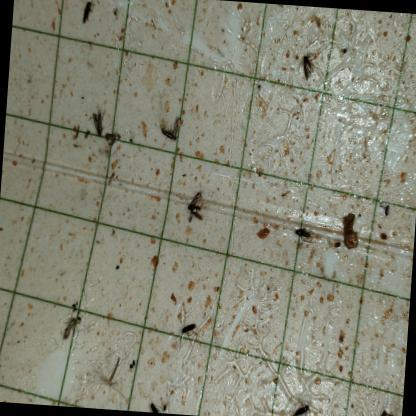prays_oleae: (178, 186, 209, 229), (291, 214, 319, 252), (298, 47, 320, 89), (158, 112, 184, 146), (61, 303, 82, 344), (88, 104, 106, 142), (77, 0, 99, 28), (179, 318, 201, 340), (102, 126, 122, 148), (291, 397, 313, 416), (146, 398, 168, 414), (372, 408, 401, 416)
